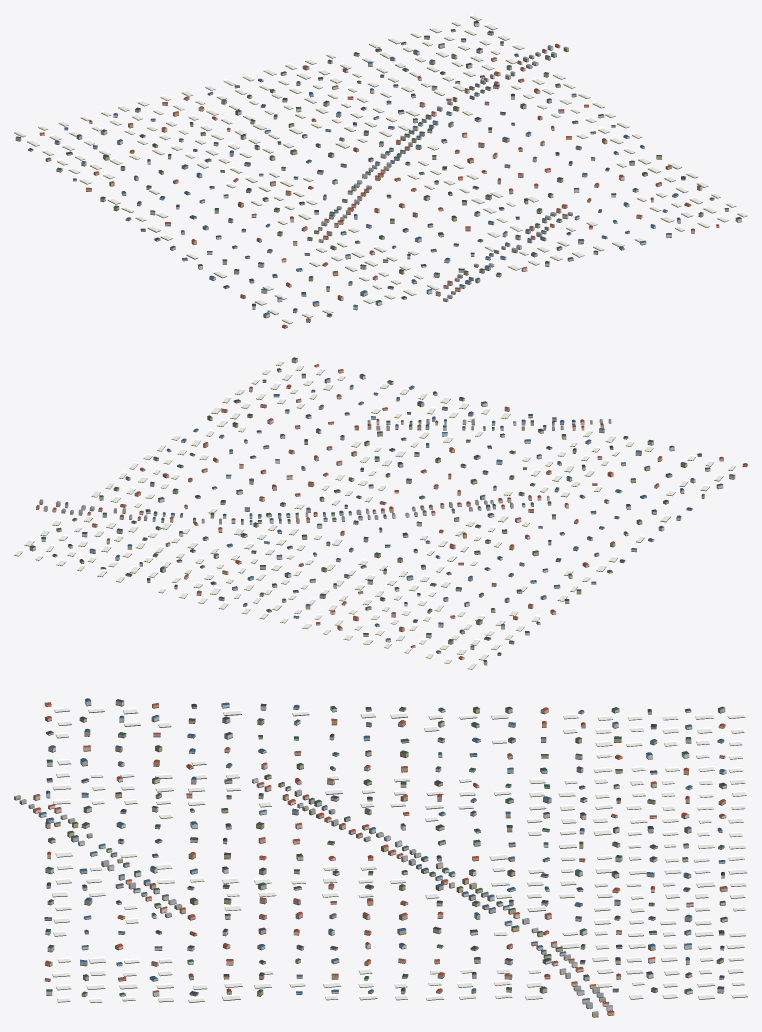
The model's file is buildings_T_W06_N05.glb.
3 renders of one model, top to bottom at view 1: azimuth 30°, elevation 25°; view 2: azimuth 150°, elevation 25°; view 3: azimuth 270°, elevation 25°, orthographic. The views are drawn at different scales.
Parts seen in each view (by area): view 1: T_W06_N05_roofs_agri_greenhouse_arch, T_W06_N05_slope_seating_foundations, T_W06_N05_walls_wall_modern_warm_white, T_W06_N05_walls_wall_french_ochre_villa, T_W06_N05_walls_wall_pastel_sand_gray, T_W06_N05_walls_wall_dalat_cream_stucco, T_W06_N05_roofs_roof_terracotta_gable, T_W06_N05_roofs_roof_highland_blue_gable, T_W06_N05_roofs_roof_pine_green_hip, T_W06_N05_roofs_roof_slate_French_villa_hip; view 2: T_W06_N05_roofs_agri_greenhouse_arch, T_W06_N05_slope_seating_foundations, T_W06_N05_walls_wall_modern_warm_white, T_W06_N05_walls_wall_french_ochre_villa, T_W06_N05_walls_wall_pastel_sand_gray, T_W06_N05_walls_wall_dalat_cream_stucco, T_W06_N05_roofs_roof_terracotta_gable, T_W06_N05_roofs_roof_highland_blue_gable, T_W06_N05_roofs_roof_pine_green_hip, T_W06_N05_roofs_roof_slate_French_villa_hip; view 3: T_W06_N05_roofs_agri_greenhouse_arch, T_W06_N05_slope_seating_foundations, T_W06_N05_walls_wall_modern_warm_white, T_W06_N05_walls_wall_french_ochre_villa, T_W06_N05_walls_wall_pastel_sand_gray, T_W06_N05_walls_wall_dalat_cream_stucco, T_W06_N05_roofs_roof_terracotta_gable, T_W06_N05_roofs_roof_highland_blue_gable, T_W06_N05_roofs_roof_slate_French_villa_hip, T_W06_N05_roofs_roof_pine_green_hip, T_W06_N05_roofs_roof_zinc_silver_gable.
Part boxes in pixels (box(x1,y1,x2,y2)): T_W06_N05_roofs_agri_greenhouse_arch: box(14, 14, 747, 323); T_W06_N05_slope_seating_foundations: box(14, 16, 747, 328); T_W06_N05_walls_wall_modern_warm_white: box(28, 22, 741, 316); T_W06_N05_walls_wall_french_ochre_villa: box(45, 37, 691, 328); T_W06_N05_walls_wall_pastel_sand_gray: box(15, 53, 703, 322); T_W06_N05_walls_wall_dalat_cream_stucco: box(54, 30, 728, 317); T_W06_N05_roofs_roof_terracotta_gable: box(40, 43, 719, 327); T_W06_N05_roofs_roof_highland_blue_gable: box(54, 43, 680, 314); T_W06_N05_roofs_roof_pine_green_hip: box(16, 30, 741, 302); T_W06_N05_roofs_roof_slate_French_villa_hip: box(28, 21, 685, 315); T_W06_N05_roofs_agri_greenhouse_arch: box(14, 360, 735, 669); T_W06_N05_slope_seating_foundations: box(14, 361, 747, 669); T_W06_N05_walls_wall_modern_warm_white: box(29, 358, 723, 659); T_W06_N05_walls_wall_french_ochre_villa: box(36, 386, 747, 643); T_W06_N05_walls_wall_pastel_sand_gray: box(56, 375, 723, 664); T_W06_N05_walls_wall_dalat_cream_stucco: box(52, 365, 735, 649); T_W06_N05_roofs_roof_terracotta_gable: box(36, 364, 747, 658); T_W06_N05_roofs_roof_highland_blue_gable: box(65, 378, 734, 652); T_W06_N05_roofs_roof_pine_green_hip: box(41, 357, 671, 662); T_W06_N05_roofs_roof_slate_French_villa_hip: box(29, 391, 722, 654); T_W06_N05_roofs_agri_greenhouse_arch: box(52, 707, 747, 1002); T_W06_N05_slope_seating_foundations: box(14, 703, 747, 1017); T_W06_N05_walls_wall_modern_warm_white: box(33, 701, 726, 1010); T_W06_N05_walls_wall_french_ochre_villa: box(14, 703, 724, 1016); T_W06_N05_walls_wall_pastel_sand_gray: box(19, 705, 727, 1008); T_W06_N05_walls_wall_dalat_cream_stucco: box(33, 699, 727, 1003); T_W06_N05_roofs_roof_terracotta_gable: box(34, 702, 727, 1012); T_W06_N05_roofs_roof_highland_blue_gable: box(39, 698, 725, 1000); T_W06_N05_roofs_roof_slate_French_villa_hip: box(46, 699, 727, 994); T_W06_N05_roofs_roof_pine_green_hip: box(45, 706, 724, 994); T_W06_N05_roofs_roof_zinc_silver_gable: box(15, 778, 612, 1013).
Size of the model in its own units: 1842 by 35.29 by 1825.
